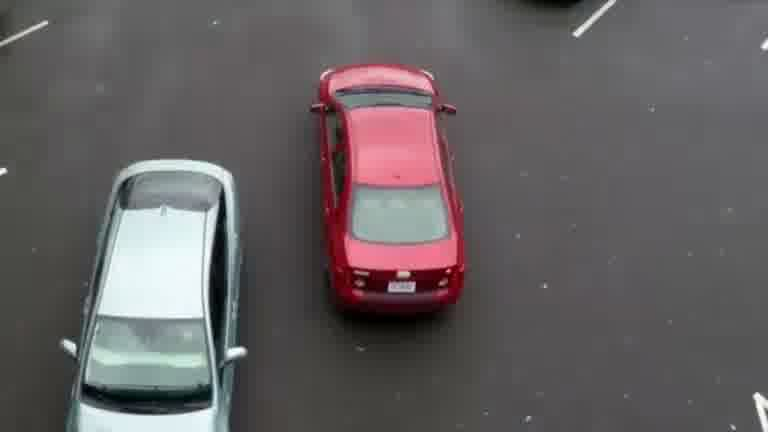car: (46, 131, 275, 432), (293, 42, 490, 339)
